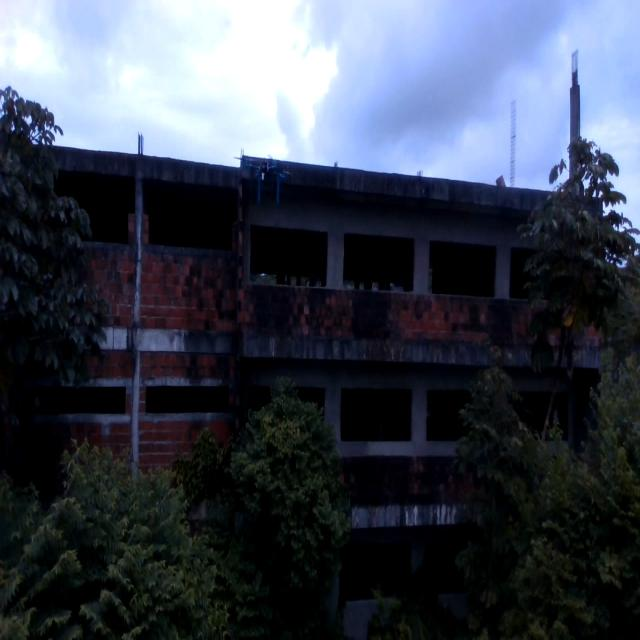-uav-: (235, 138, 301, 216)
